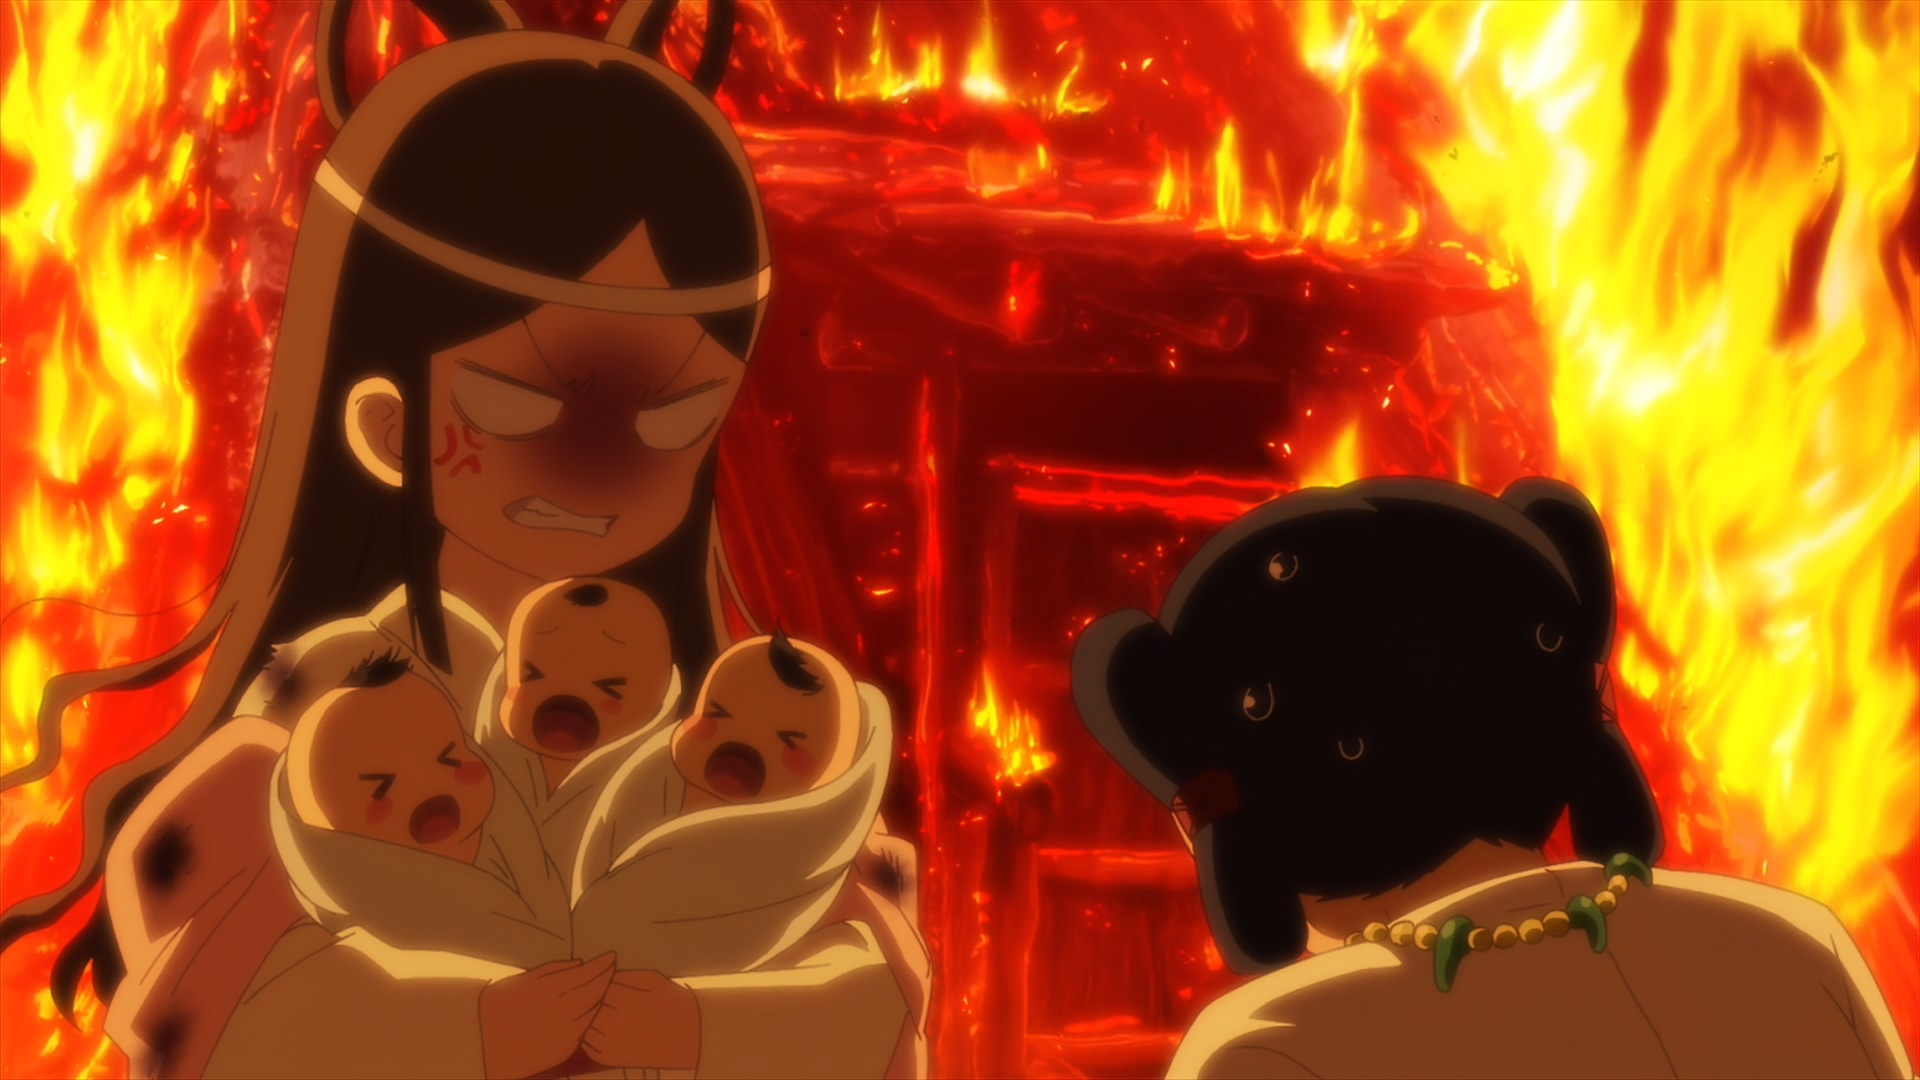其他: (1, 1, 934, 1080), (1075, 477, 1912, 1080), (576, 617, 891, 969), (272, 649, 570, 982), (476, 575, 682, 905)
